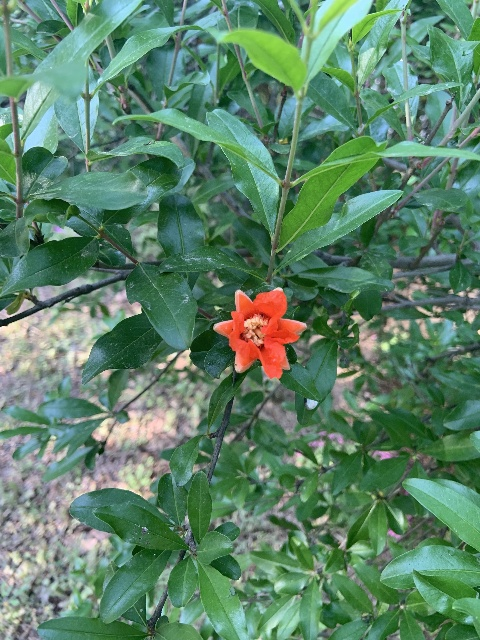flower: (213, 287, 307, 379)
